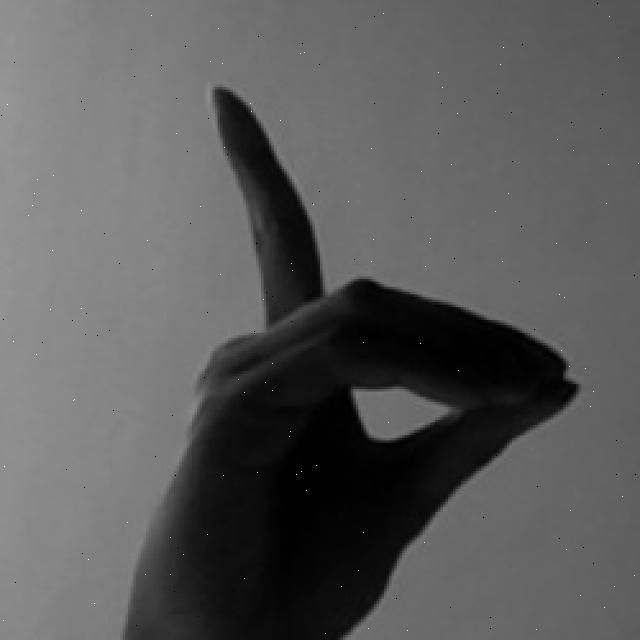D: (123, 82, 578, 640)
